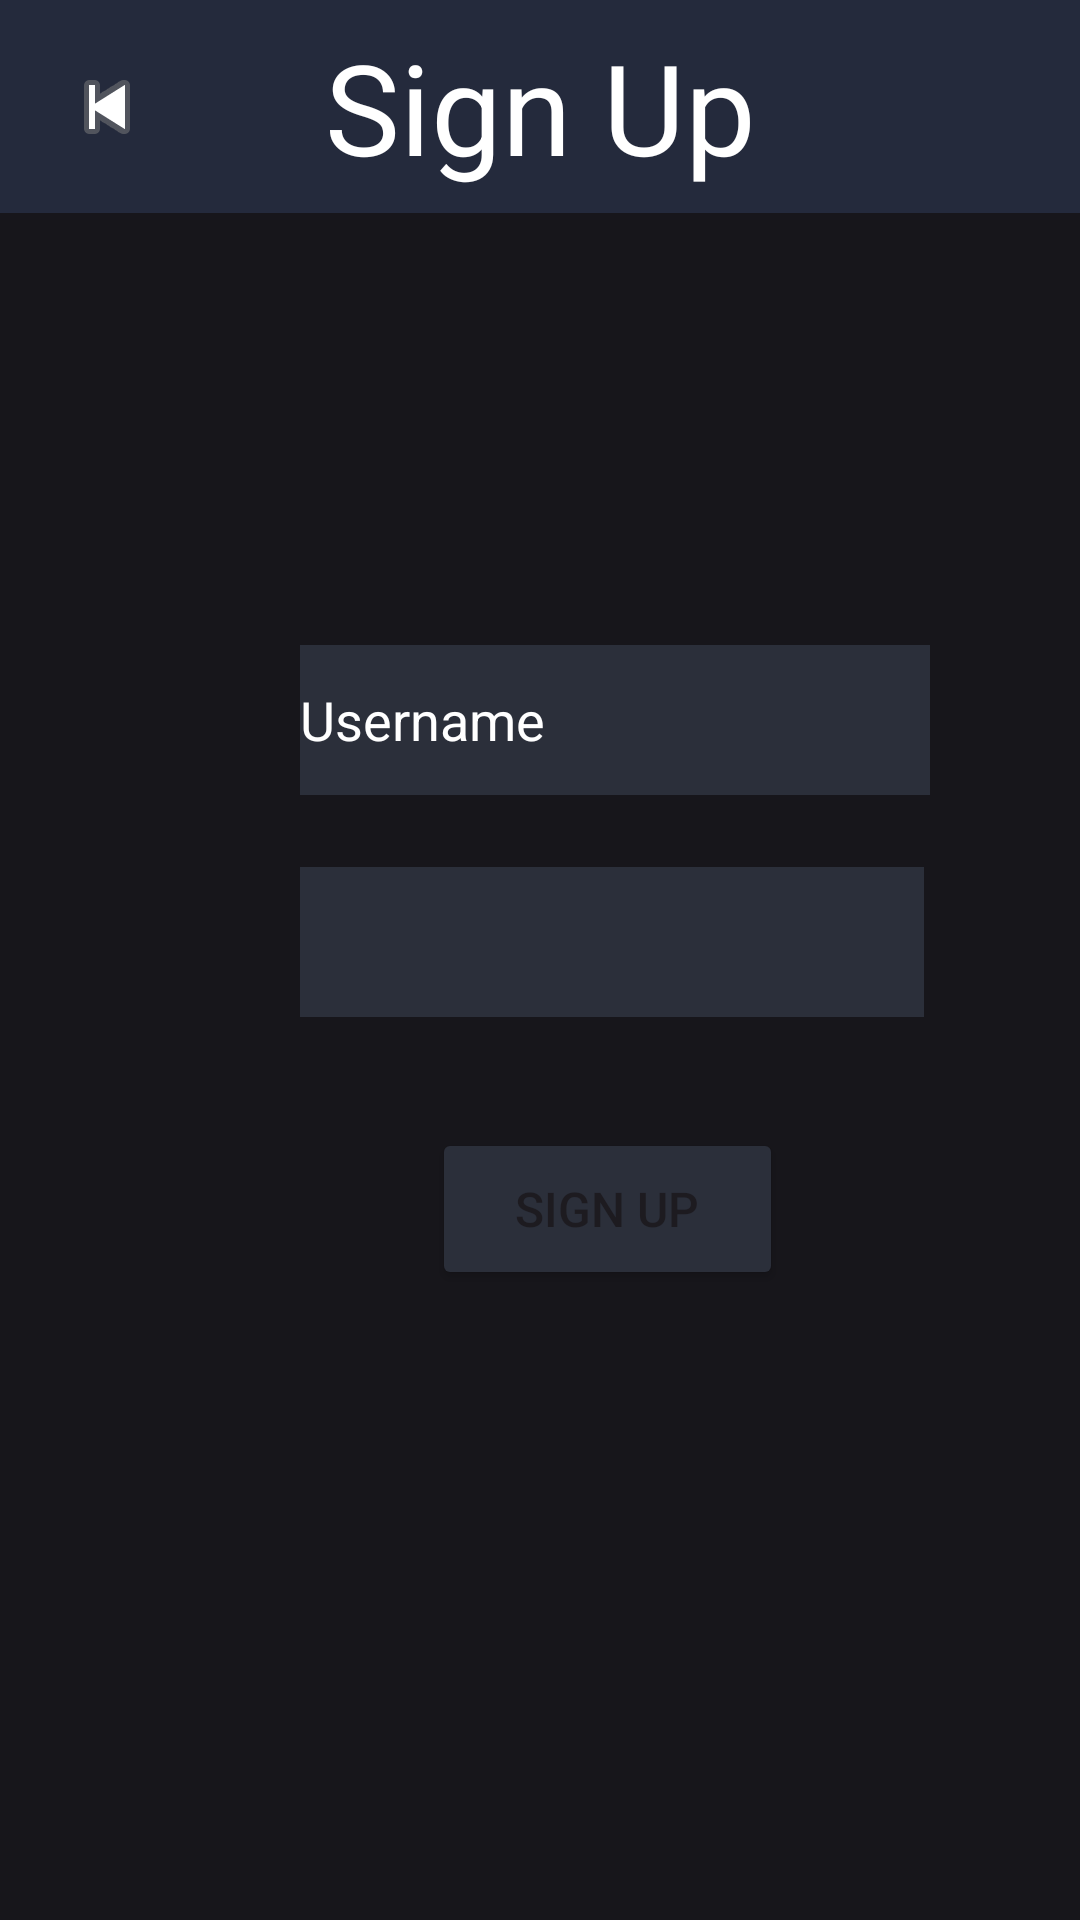

Icon bounding boxes for this 1080x1920 phone screenshot, format bbox=(x1, y1, x2, y2):
previous: bbox=(84, 80, 130, 134)
